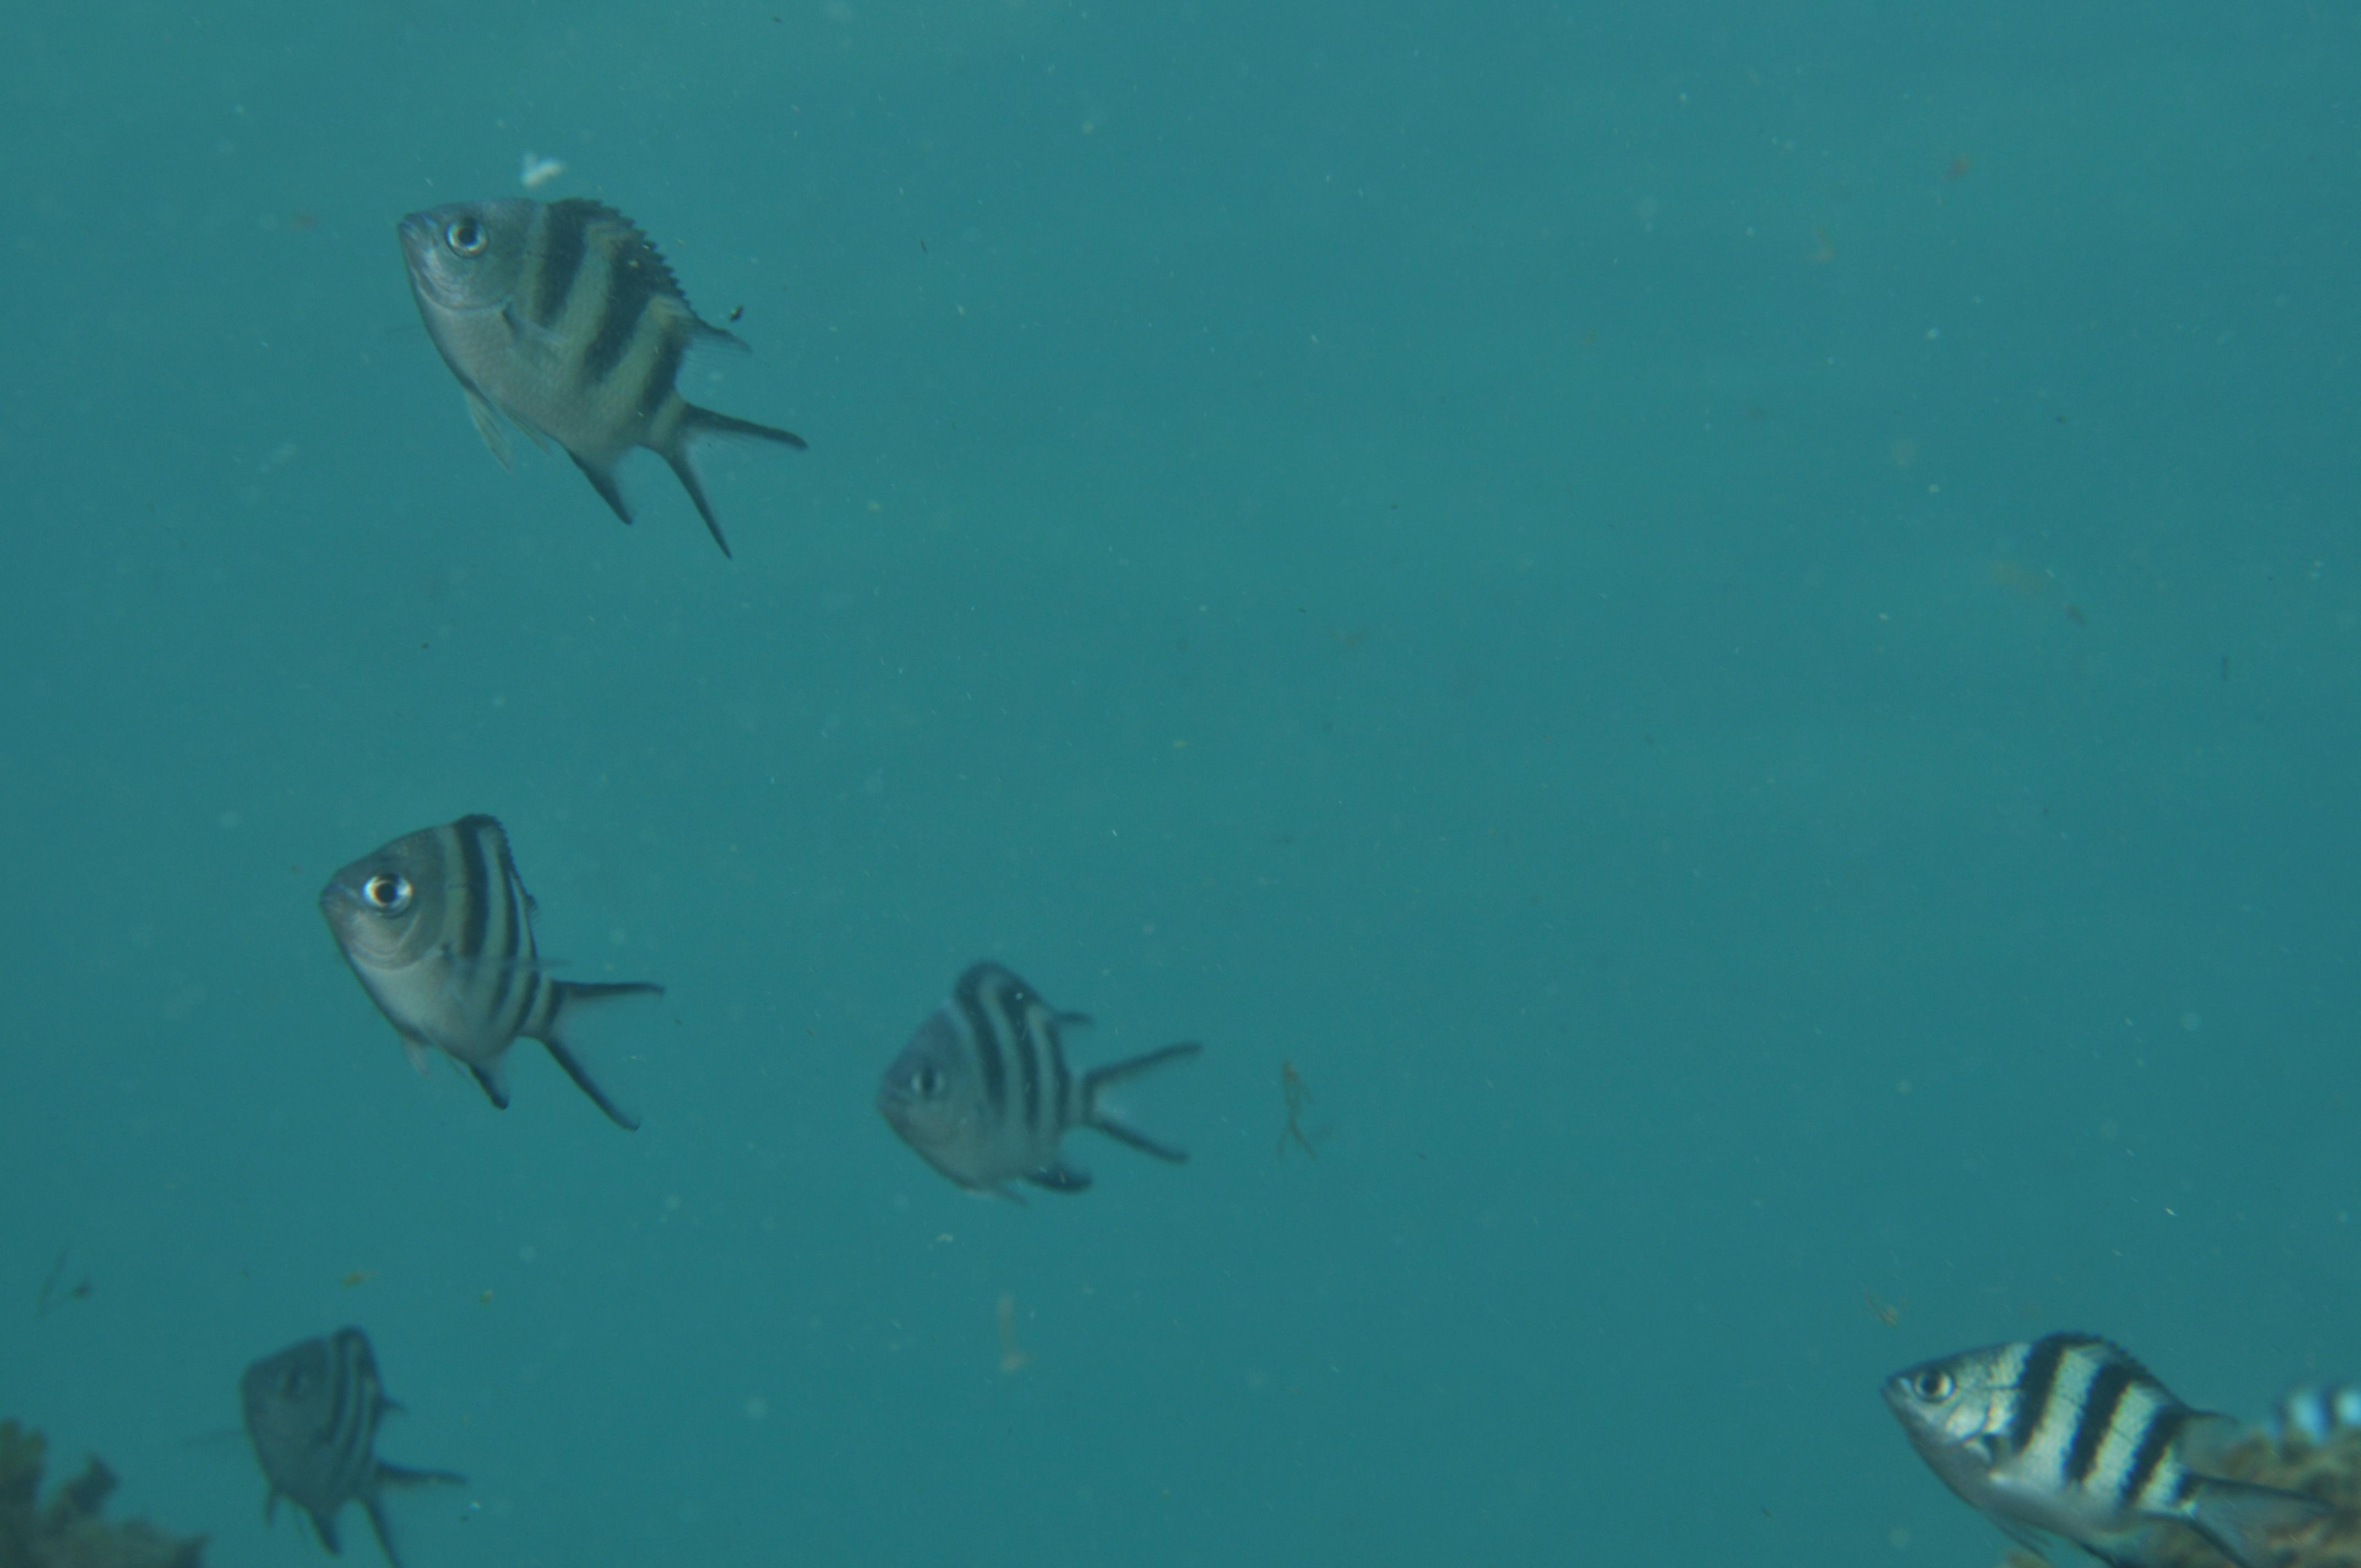Fish: (322, 108, 844, 583), (224, 724, 649, 1183), (821, 835, 1197, 1309), (1831, 1283, 2342, 1568), (201, 1307, 501, 1561)
